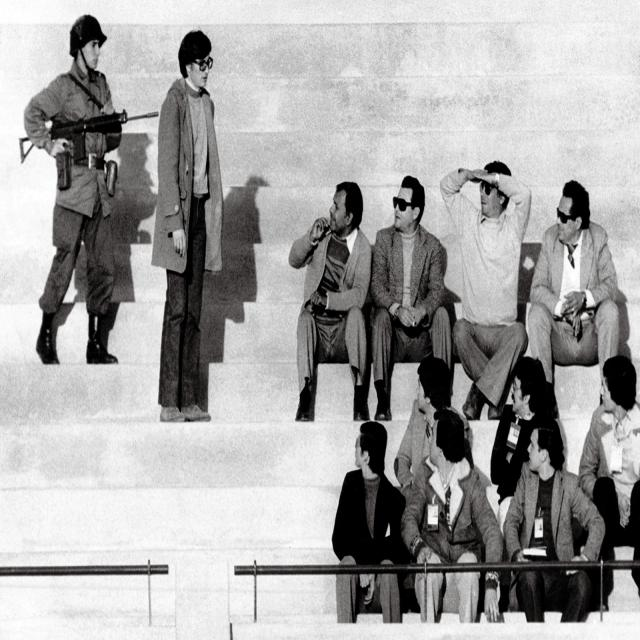body: (44, 126, 638, 364), (17, 11, 165, 372), (150, 25, 227, 430), (401, 406, 508, 640), (439, 160, 532, 422), (526, 173, 623, 424), (366, 172, 454, 426), (286, 178, 376, 426), (502, 416, 606, 622), (488, 354, 565, 614), (576, 353, 640, 607), (331, 418, 407, 624), (392, 352, 472, 497)
